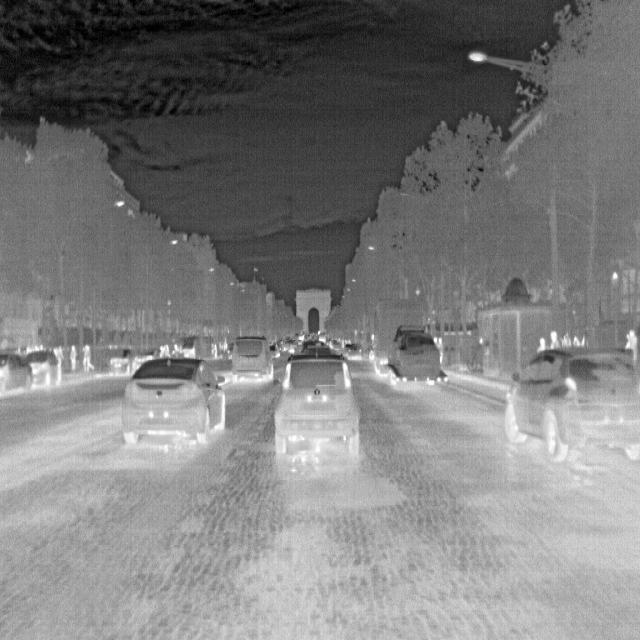Pedestrian: (623, 326, 639, 362), (81, 343, 93, 375), (70, 343, 79, 372)
Vehicle: (502, 345, 639, 466), (119, 350, 227, 448), (271, 348, 362, 458), (387, 322, 443, 390), (227, 332, 275, 383), (0, 348, 32, 398)
